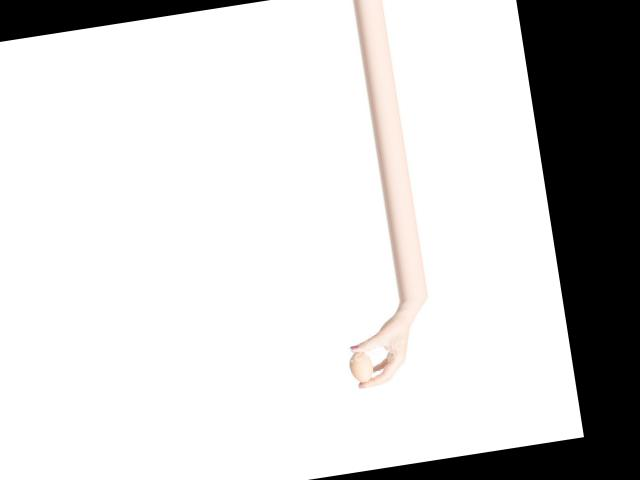egg: (349, 349, 374, 383)
